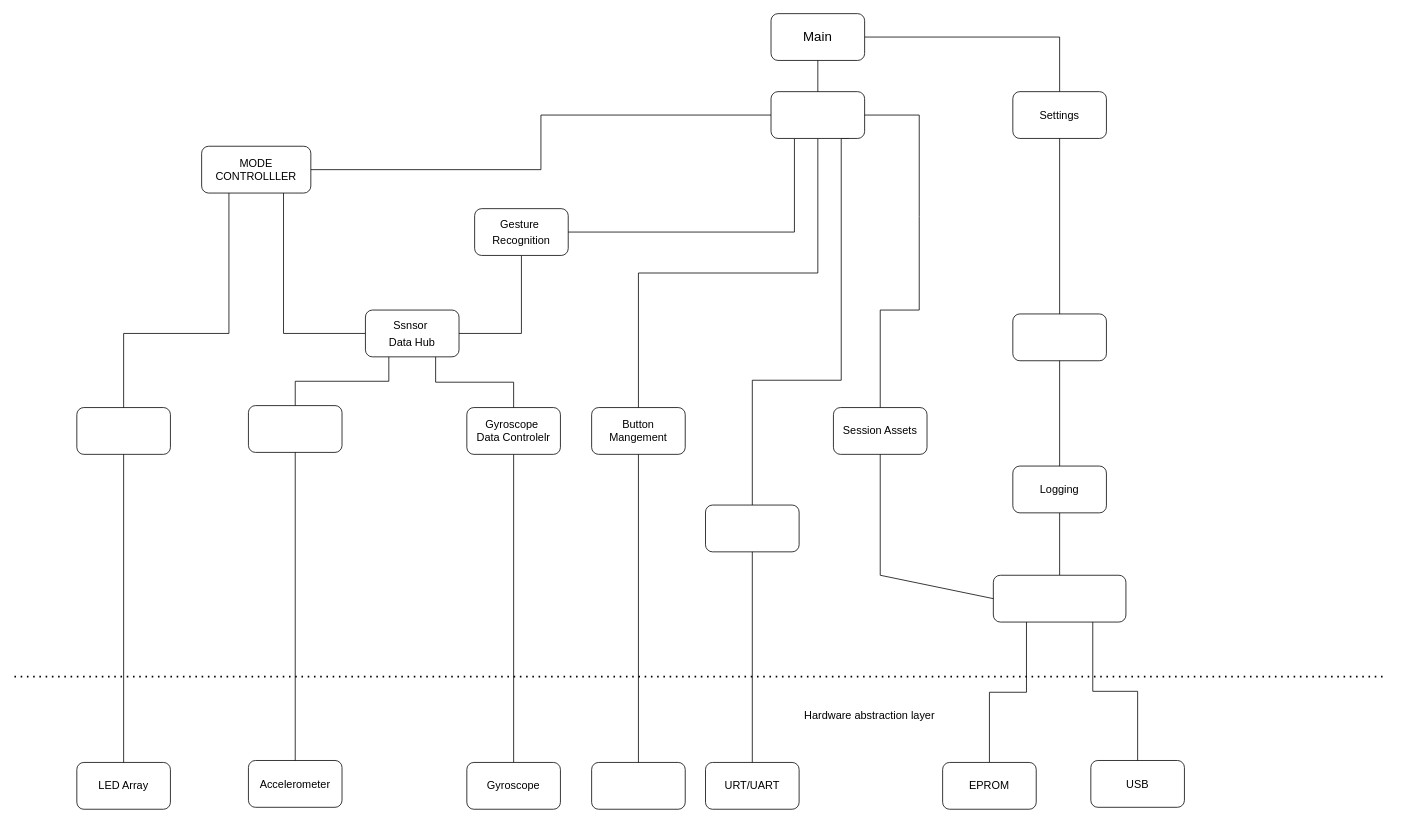
Some shapes in this 1402 by 823 pixel diagram are drawn without their labels. The centre of each missing label's shape, as x and y in pixels:
Accelerometer Data Contollert: [295,428]
Command Line: [752,528]
File Management: [1059,598]
LED controller: [123,430]
Session Controller: [817,114]
Tactile Button: [638,785]
User: [1059,337]
